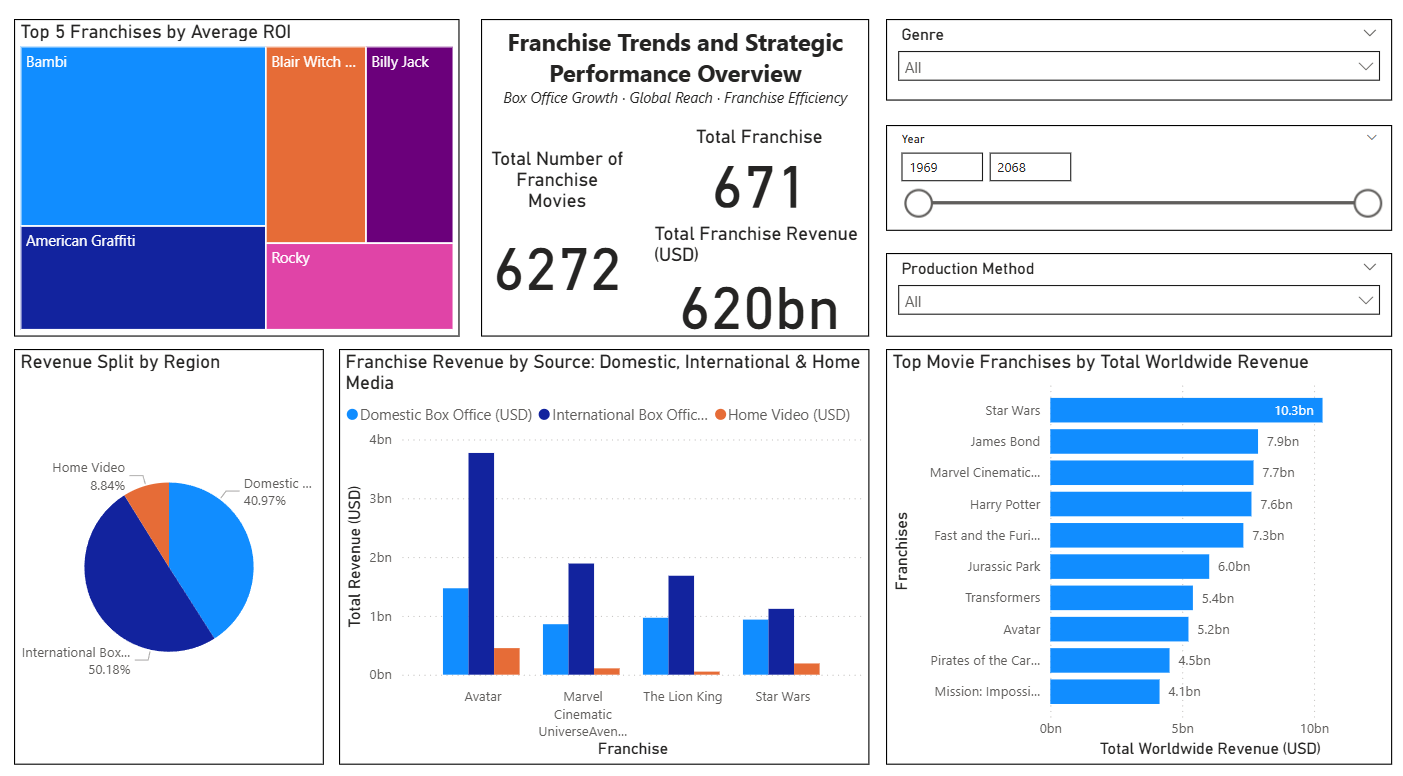

Layout of this report page (visuals, bound fields, positions):
{"tool":"powerbi","page":{"name":" Franchise Performance","canvas":[1280,720],"ordinal":1},"visuals":[{"type":"clusteredBarChart","title":"Top Movie Franchises by Total Worldwide Revenue","fields":{"Category":["Movie Industry Performance Analysis - Dataset(1).Franchise"],"Y":["Sum(Movie Industry Performance Analysis - Dataset(1).Worldwide Gross (USD))"]},"box":[810,322.2,458.9,376.7],"z":0},{"type":"slicer","fields":{"Values":["Movie Industry Performance Analysis - Dataset(1).Production Method"]},"box":[810,234.4,458.9,75.6],"z":1000},{"type":"slicer","fields":{"Values":["Movie Industry Performance Analysis - Dataset(1).Genre"]},"box":[810,22.2,458.9,74.4],"z":2000},{"type":"slicer","fields":{"Values":["Movie Industry Performance Analysis - Dataset(1).Release Date.Variation.Date Hierarchy.Year"]},"box":[810,118.9,458.9,95.6],"z":3000},{"type":"clusteredColumnChart","title":"Franchise Revenue by Source: Domestic, International & Home Media","fields":{"Y":["Sum(Movie Industry Performance Analysis - Dataset(1).Domestic Box Office (USD))","Sum(Movie Industry Performance Analysis - Dataset(1).International Box Office (USD))","Sum(Movie Industry Performance Analysis - Dataset(1).Total Est. Domestic Video Sales (USD))"],"Category":["Movie Industry Performance Analysis - Dataset(1).Franchise"]},"box":[313.3,322.2,481.1,376.7],"z":4000},{"type":"pieChart","title":"Revenue Split by Region","fields":{"Y":["Sum(Movie Industry Performance Analysis - Dataset(1).Domestic Box Office (USD))","Sum(Movie Industry Performance Analysis - Dataset(1).International Box Office (USD))","Sum(Movie Industry Performance Analysis - Dataset(1).Total Est. Domestic Video Sales (USD))"]},"box":[18.9,322.2,281.1,376.7],"z":5000},{"type":"treemap","title":"Top 5 Franchises by Average ROI","fields":{"Group":["Movie Industry Performance Analysis - Dataset(1).Franchise"],"Values":["Avg(Movie Industry Performance Analysis - Dataset(1).ROI)"]},"box":[18.9,22.2,404.4,287.8],"z":6000},{"type":"card","title":"Total Franchise ","fields":{"Values":["Count(Movie Industry Performance Analysis - Dataset(1).Franchise)"]},"box":[594.4,118.9,200,80],"z":7000},{"type":"card","title":" Total Franchise Revenue (USD)","fields":{"Values":["Sum(Movie Industry Performance Analysis - Dataset(1).Worldwide Gross (USD))"]},"box":[594.4,206.7,200,103.3],"z":8000},{"type":"textbox","box":[442.2,22.2,352.2,287.8],"z":9000},{"type":"card","title":"Total Number of Franchise Movies","fields":{"Values":["Count(Movie Industry Performance Analysis - Dataset(1).Movie Name)"]},"box":[444.4,138.9,134.4,151.1],"z":10000}]}

Visuals, with their boxes in screenshot pixels (x1, y1, x2, y2), scaled from the page's 1280x720 canvas onto the 1403x776 screenshot:
"Top Movie Franchises by Total Worldwide Revenue" clusteredBarChart: (888, 347, 1391, 753)
slicer - Movie Industry Performance Analysis - Dataset(1).Production Method: (888, 253, 1391, 334)
slicer - Movie Industry Performance Analysis - Dataset(1).Genre: (888, 24, 1391, 104)
slicer - Movie Industry Performance Analysis - Dataset(1).Release Date.Variation.Date Hierarchy.Year: (888, 128, 1391, 231)
"Franchise Revenue by Source: Domestic, International & Home Media" clusteredColumnChart: (343, 347, 871, 753)
"Revenue Split by Region" pieChart: (21, 347, 329, 753)
"Top 5 Franchises by Average ROI" treemap: (21, 24, 464, 334)
"Total Franchise " card: (652, 128, 871, 214)
" Total Franchise Revenue (USD)" card: (652, 223, 871, 334)
textbox: (485, 24, 871, 334)
"Total Number of Franchise Movies" card: (487, 150, 634, 313)
